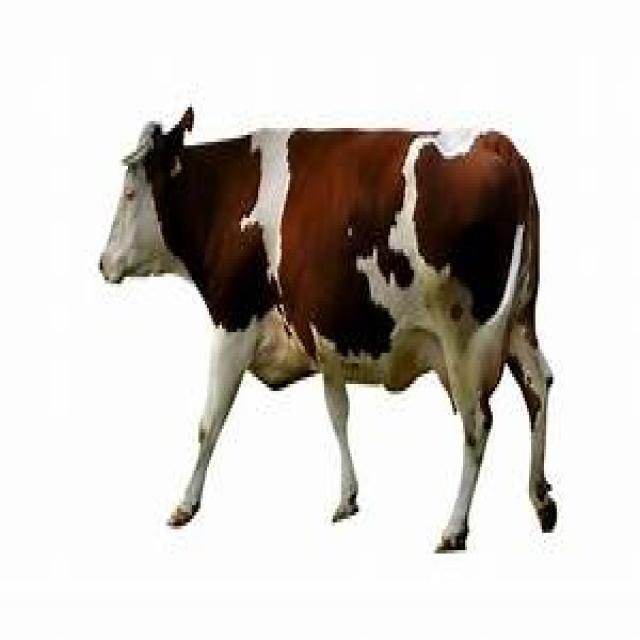cow: (98, 111, 559, 550)
